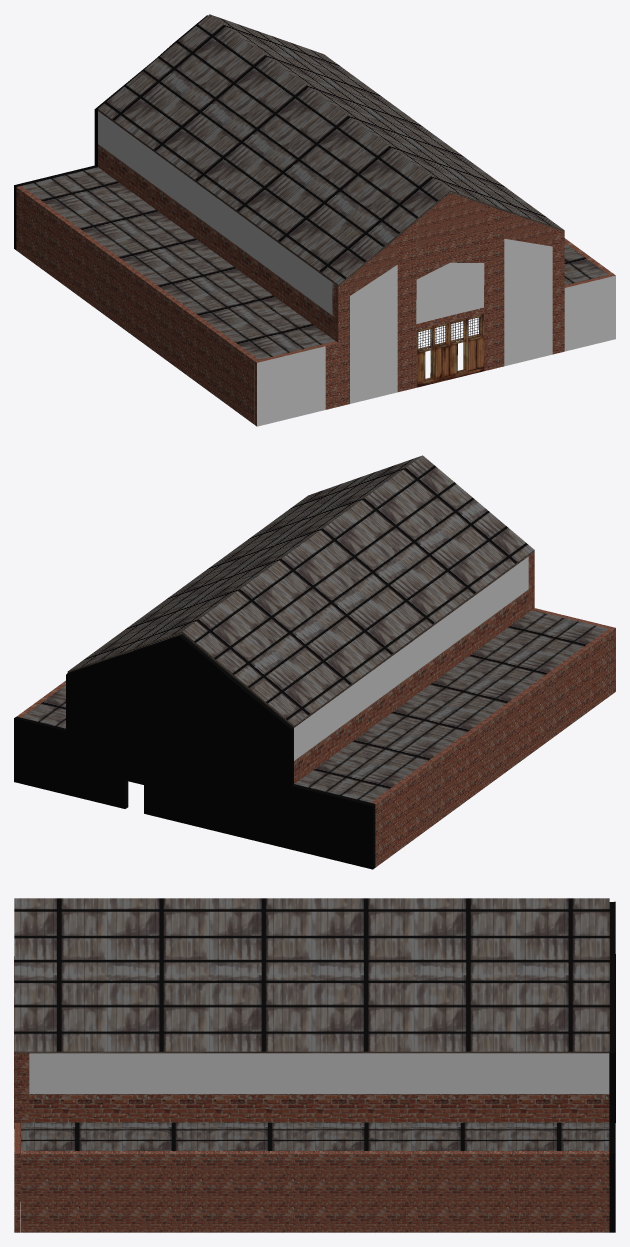
File: warehousetest.fbx
3 views of the same model, one above another, from view 1: azimuth 30°, elevation 25°; view 2: azimuth 150°, elevation 25°; view 3: azimuth 270°, elevation 25° (orthographic). The views are drawn at different scales.
Visible parts, largest first — view 1: sidewalls, back_wall, pCube1, pCube2, frontwall; view 2: sidewalls, frontwall, pCube1, pCube2, back_wall; view 3: sidewalls, pCube2, frontwall, back_wall.
Part boxes in pixels (bbox=[...]): sidewalls: bbox=[16, 111, 612, 424]; back_wall: bbox=[254, 193, 615, 426]; pCube1: bbox=[98, 14, 450, 286]; pCube2: bbox=[210, 14, 564, 231]; frontwall: bbox=[14, 15, 207, 249]; sidewalls: bbox=[17, 556, 613, 867]; frontwall: bbox=[14, 634, 375, 869]; pCube1: bbox=[182, 455, 534, 727]; pCube2: bbox=[67, 455, 422, 672]; back_wall: bbox=[528, 552, 615, 693]; sidewalls: bbox=[21, 1053, 609, 1232]; pCube2: bbox=[14, 898, 609, 1053]; frontwall: bbox=[609, 901, 615, 1232]; back_wall: bbox=[14, 956, 29, 1232].
Size of the model in its own units: 32.25 by 16.27 by 37.87.
